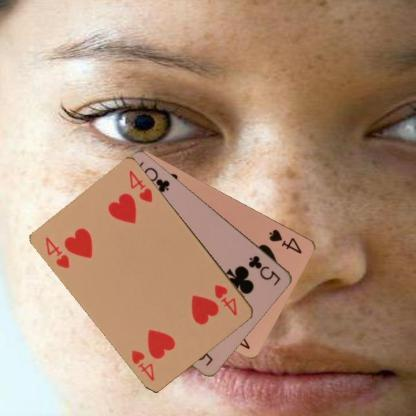4h: (43, 234, 72, 270), (212, 282, 239, 318)
4s: (266, 226, 304, 256)
5c: (245, 252, 282, 288)
